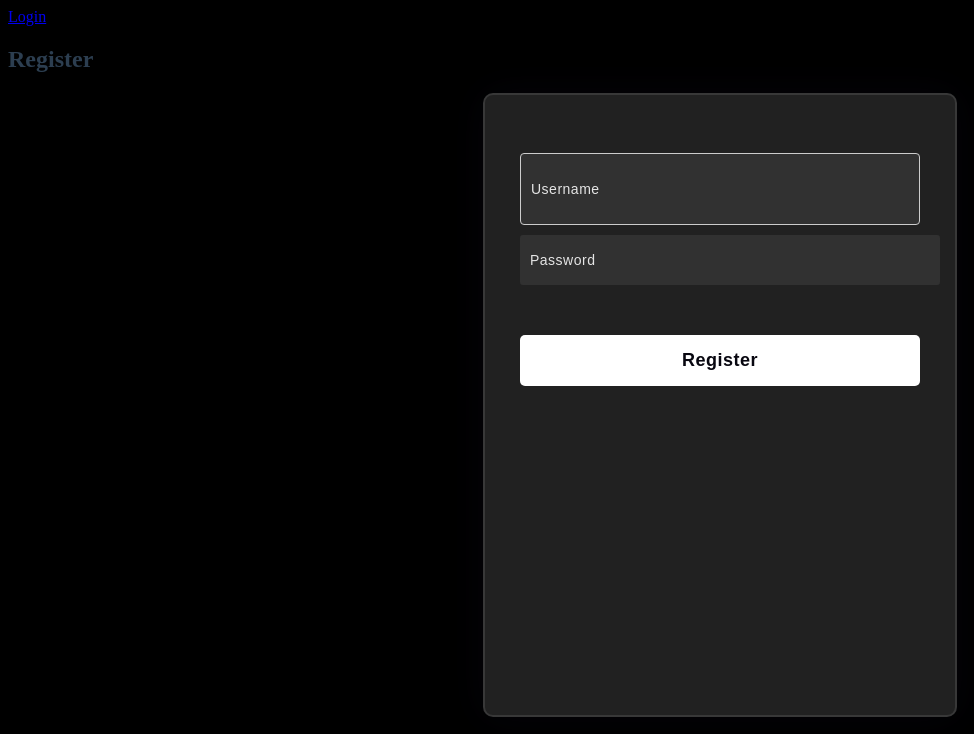
Register Component Basic Tests › shows error message when user already exists
The width and height of the screenshot is (974, 734).
# Try to register with existing username
Type "existinguser" into the field with placeholder "Username". click: (720, 189)
box: left=520, top=153, right=920, bottom=225
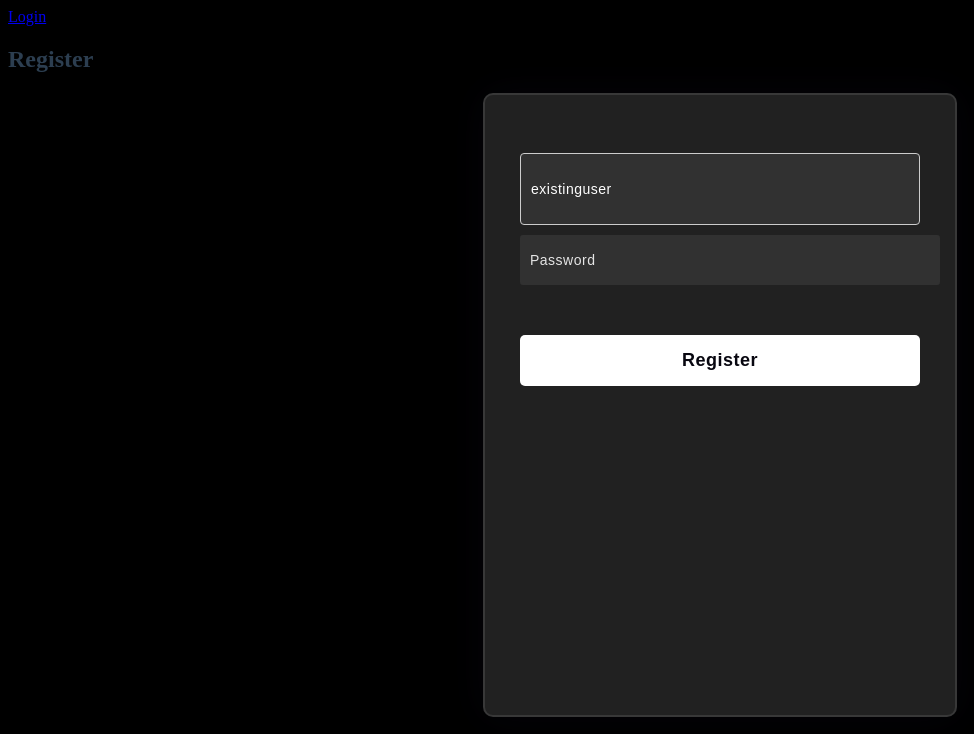
Type "password123" into the password field with placeholder "Password". click: (730, 260)
box: left=520, top=235, right=940, bottom=285
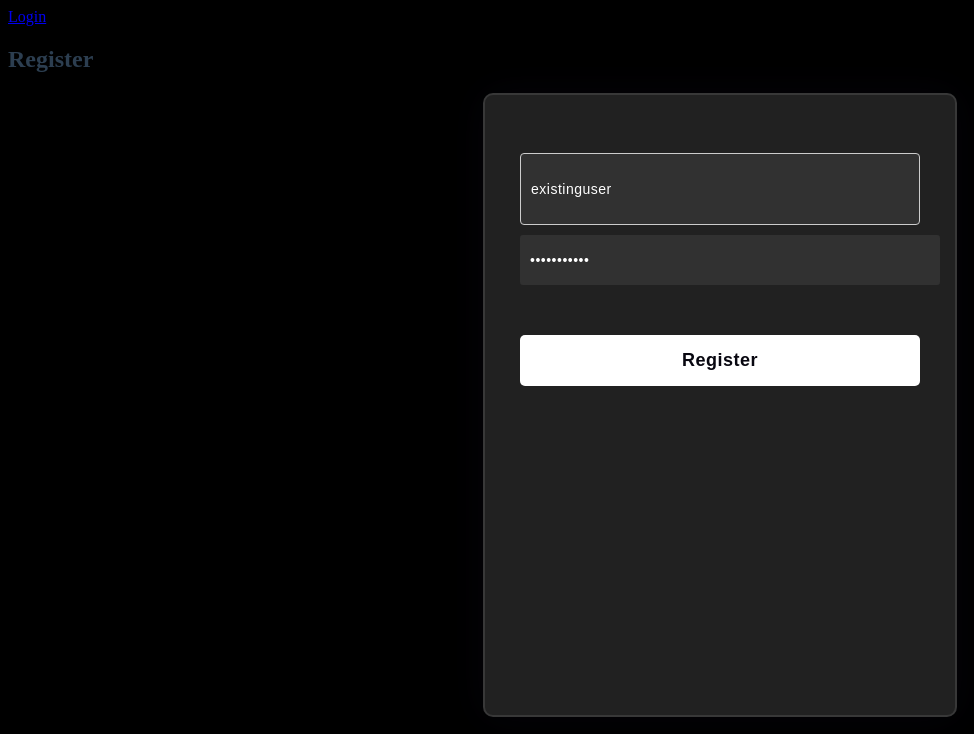
Click the button "Register". click: (720, 360)
box: left=520, top=335, right=920, bottom=386
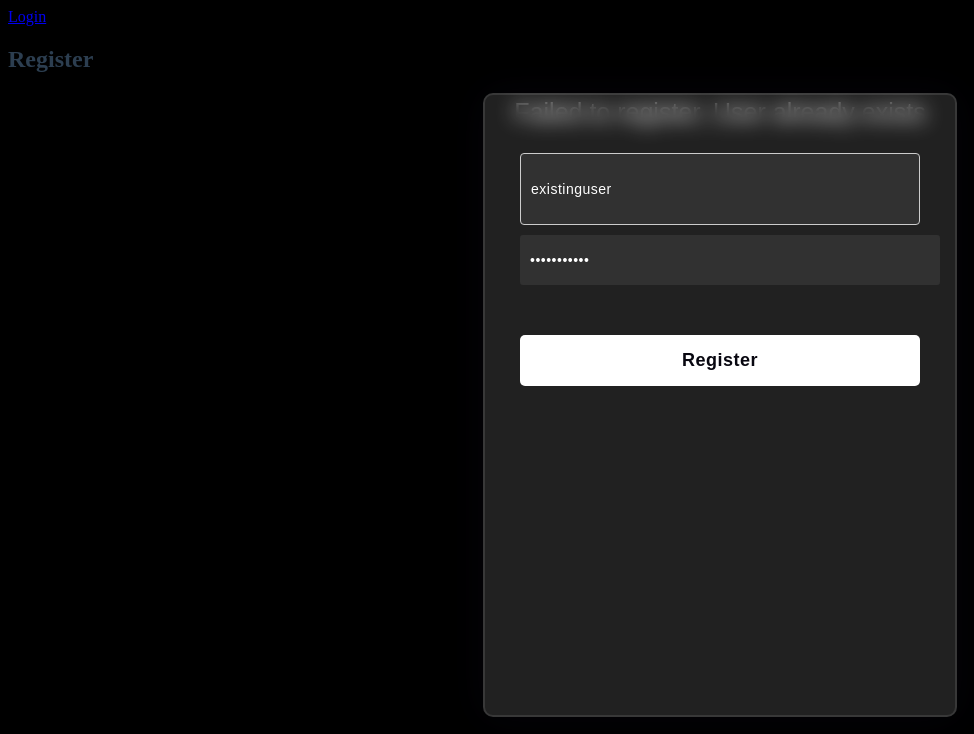
Expected: the text "Failed to register, User already exists" is shown, left=514, top=98, right=926, bottom=126
